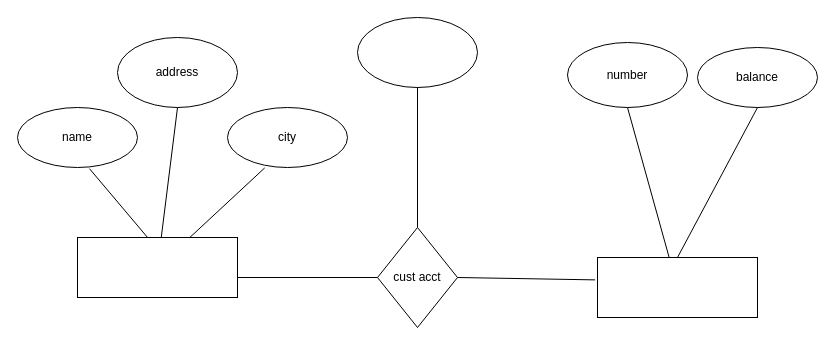
Image size: 835x345. Some labels were removed from this diagram. The shapes that lost their labels are listed below. From the top down, each one's centre as x and y in pixels, then its label:
At point 417,52: "date".
At point 157,267: "customer".
At point 677,287: "account".
